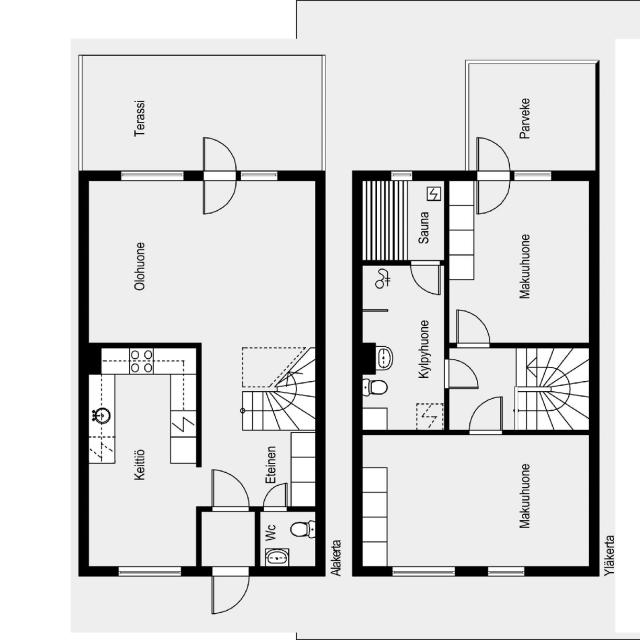door: (470, 132, 513, 218), (196, 134, 238, 219), (206, 565, 251, 619), (450, 304, 497, 350), (208, 466, 253, 512), (441, 352, 485, 395), (472, 176, 512, 218), (466, 392, 506, 432), (407, 259, 445, 296), (262, 481, 290, 513)
window: (110, 562, 187, 580), (114, 166, 191, 183), (388, 564, 460, 579), (482, 562, 532, 580), (509, 166, 558, 184), (237, 166, 282, 184), (387, 168, 418, 183)
zone: (81, 173, 318, 347), (354, 434, 596, 570), (84, 344, 199, 568), (445, 181, 596, 349), (360, 260, 447, 436), (356, 176, 444, 263), (258, 509, 319, 571), (199, 507, 259, 569), (207, 545, 250, 607)
